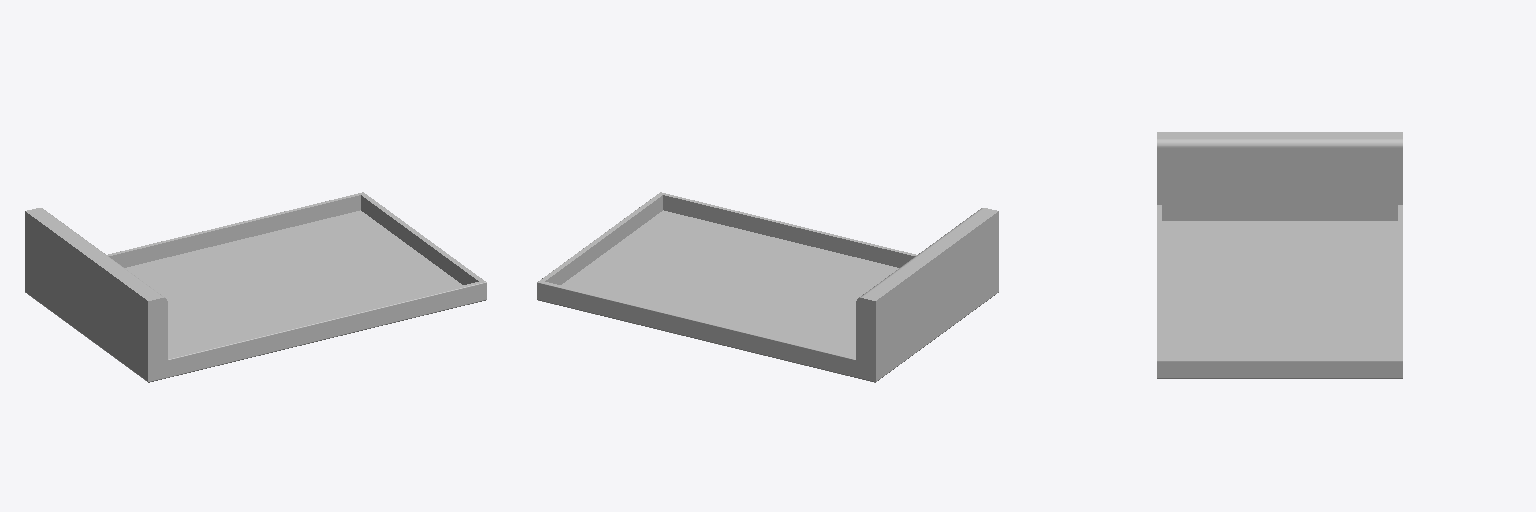
File: frame.obj
The picture shows the model from 3 angles: view 1: azimuth 30°, elevation 25°; view 2: azimuth 150°, elevation 25°; view 3: azimuth 270°, elevation 25°; orthographic projection.
Visible parts, largest first — view 1: bed_frame; view 2: bed_frame; view 3: bed_frame.
Boxes of the visible parts, <box> form: bed_frame: <box>25,192,486,382</box>; bed_frame: <box>537,192,998,382</box>; bed_frame: <box>1157,132,1402,378</box>.
Bounding box in the file's own units: 1.87 × 0.4331 × 1.18.